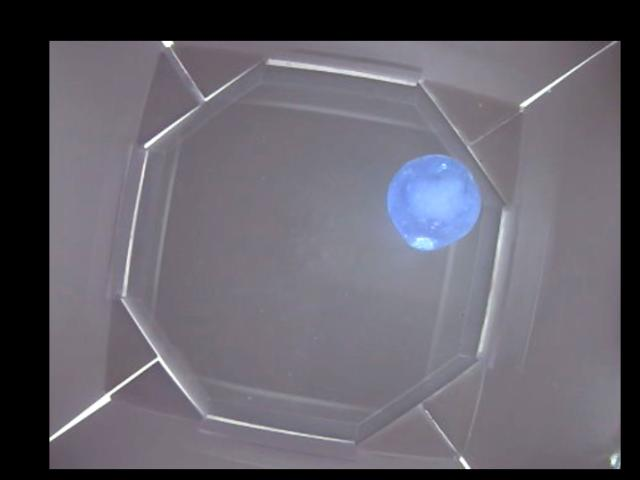Potato: (389, 157, 477, 252)
